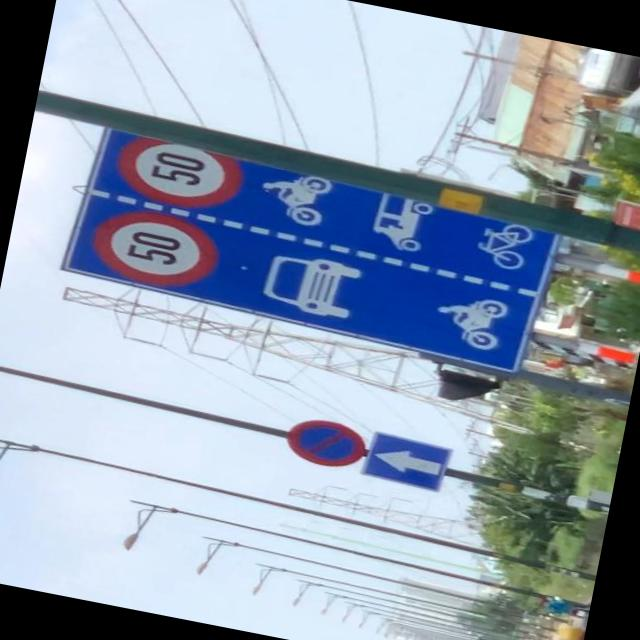I-407a: (362, 431, 450, 492)
P-131a: (281, 412, 370, 473)
